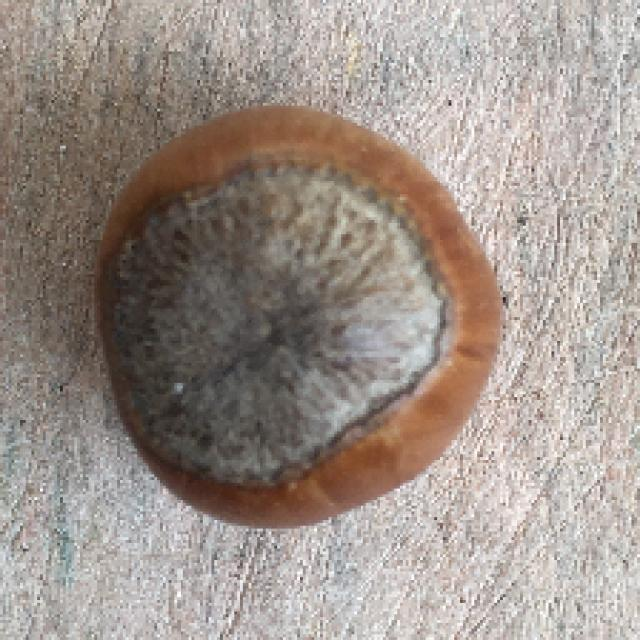DamagedHazelnut: (95, 106, 500, 532)
